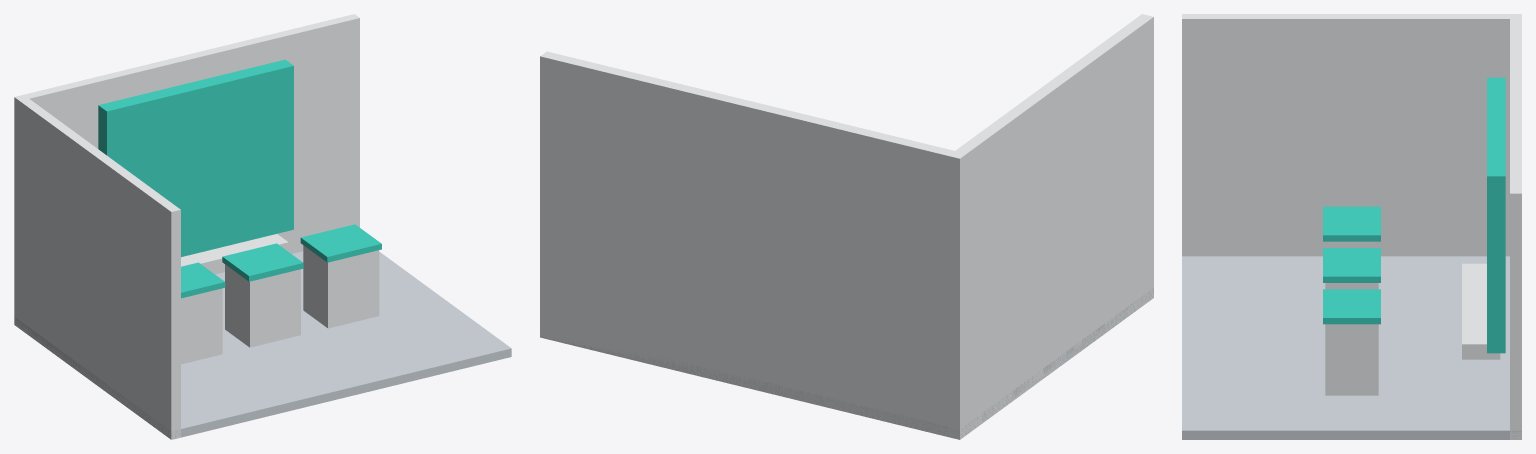
3 renders of one model, left to right at view 1: azimuth 30°, elevation 25°; view 2: azimuth 150°, elevation 25°; view 3: azimuth 270°, elevation 25°, orthographic. The views are drawn at different scales.
Parts seen in each view (by area): view 1: Exhibition Booth Concept; view 2: Exhibition Booth Concept; view 3: Exhibition Booth Concept.
Boxes of the visible parts, left/top/right/bottom form: Exhibition Booth Concept: left=14, top=14, right=511, bottom=439; Exhibition Booth Concept: left=540, top=14, right=1153, bottom=439; Exhibition Booth Concept: left=1182, top=14, right=1521, bottom=439.
Bounding box in the file's own units: 5 × 3.2 × 4.
